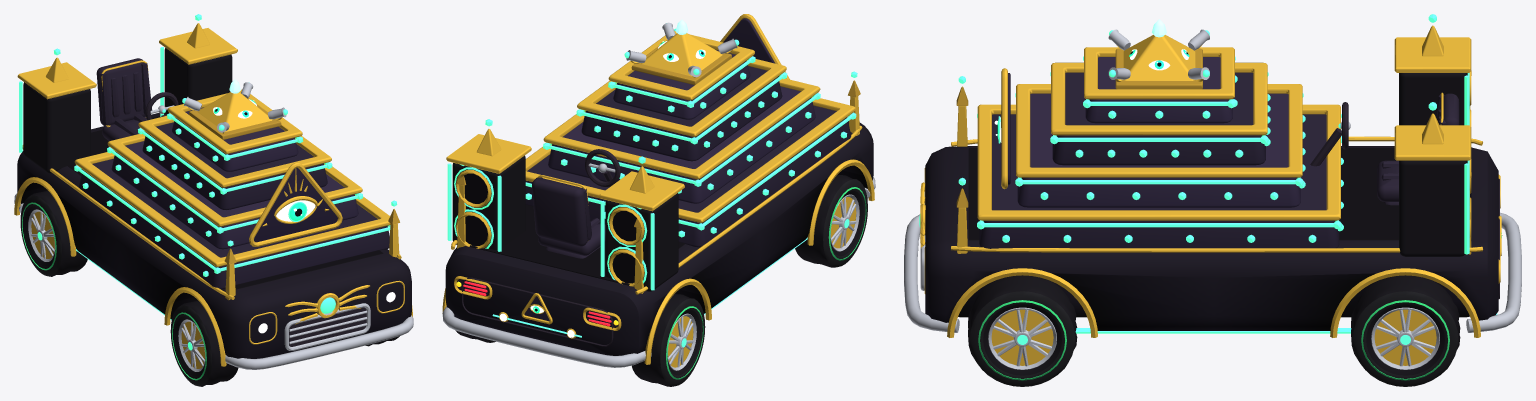
The model's file is pyramid_scheme.glb.
The picture shows the model from 3 angles, left to right: view 1: azimuth 30°, elevation 25°; view 2: azimuth 150°, elevation 25°; view 3: azimuth 270°, elevation 25°; orthographic projection. The views are drawn at different scales.
Parts seen in each view (by area): view 1: shell, tier_0, tower_0, tier_1, tier_2, coping_0, tower_1, coping_1, wheel_RR_tyre, wheel_FR_tyre, coping_2, tier_3 (+24 smaller); view 2: shell, tier_1, tier_0, tier_2, coping_1, coping_0, seat_back, tower_0, tower_1, wheel_RR_tyre, wheel_FR_tyre, coping_2 (+36 smaller); view 3: shell, tier_0, tier_1, tier_2, coping_0, tower_1, wheel_RL_tyre, wheel_FL_tyre, coping_1, deck, coping_2, tier_3 (+26 smaller).
Part boxes in pixels (left/top/right/bottom): shell: left=17, top=113, right=411, bottom=358; tier_0: left=79, top=159, right=389, bottom=289; tower_0: left=23, top=82, right=90, bottom=173; tier_1: left=111, top=141, right=358, bottom=249; tier_2: left=142, top=122, right=327, bottom=209; coping_0: left=74, top=150, right=390, bottom=266; tower_1: left=164, top=48, right=232, bottom=114; coping_1: left=107, top=134, right=362, bottom=226; wheel_RR_tyre: left=20, top=190, right=87, bottom=276; wheel_FR_tyre: left=170, top=300, right=238, bottom=386; coping_2: left=138, top=115, right=331, bottom=187; tier_3: left=172, top=107, right=298, bottom=171; shell: left=445, top=121, right=873, bottom=355; tier_1: left=548, top=86, right=815, bottom=203; tier_0: left=525, top=105, right=851, bottom=247; tier_2: left=581, top=66, right=782, bottom=161; coping_1: left=543, top=78, right=820, bottom=179; coping_0: left=525, top=97, right=855, bottom=222; seat_back: left=532, top=177, right=587, bottom=246; tower_0: left=605, top=193, right=678, bottom=291; tower_1: left=452, top=155, right=525, bottom=249; wheel_RR_tyre: left=632, top=294, right=705, bottom=386; wheel_FR_tyre: left=795, top=175, right=867, bottom=267; coping_2: left=577, top=59, right=786, bottom=136; shell: left=925, top=146, right=1498, bottom=330; tier_0: left=979, top=114, right=1339, bottom=248; tier_1: left=1017, top=93, right=1300, bottom=207; tier_2: left=1052, top=72, right=1265, bottom=165; coping_0: left=977, top=104, right=1340, bottom=220; tower_1: left=1399, top=160, right=1466, bottom=256; wheel_RL_tyre: left=1351, top=275, right=1460, bottom=386; wheel_FL_tyre: left=968, top=275, right=1077, bottom=386; coping_1: left=1016, top=84, right=1302, bottom=177; deck: left=968, top=148, right=1471, bottom=240; coping_2: left=1051, top=62, right=1267, bottom=135; tier_3: left=1085, top=57, right=1232, bottom=123.
Size of the model in its own units: 2.69 by 3.12 by 5.65.
